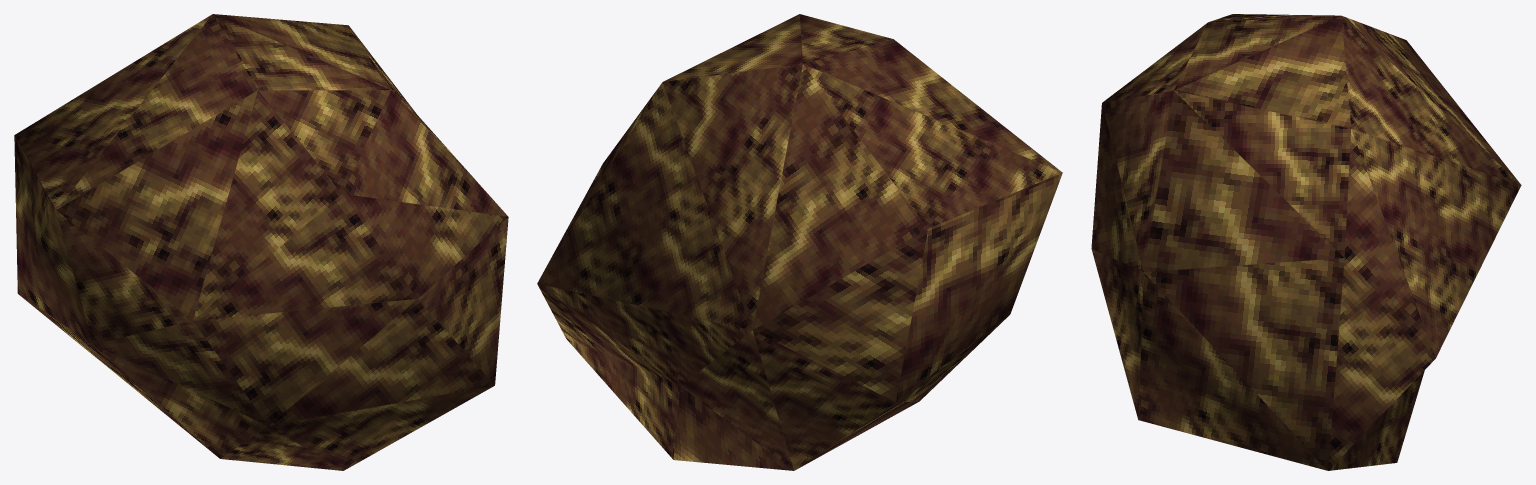
Rendered from brown asteroid.dae.
3 renders of one model, left to right at view 1: azimuth 30°, elevation 25°; view 2: azimuth 150°, elevation 25°; view 3: azimuth 270°, elevation 25°, orthographic. The views are drawn at different scales.
Visible parts, largest first — view 1: brown; view 2: brown; view 3: brown.
Part boxes in pixels (box(x1,y1,x2,y2)): brown: box(14, 14, 508, 470); brown: box(537, 14, 1062, 470); brown: box(1091, 14, 1521, 470).
Size of the model in its own units: 208 by 177 by 174.
1 material, 1 textured.
